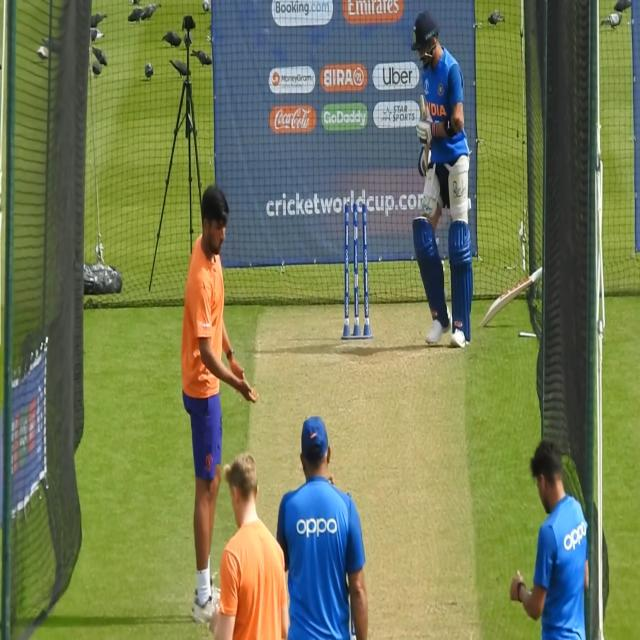stump: (342, 201, 371, 341)
